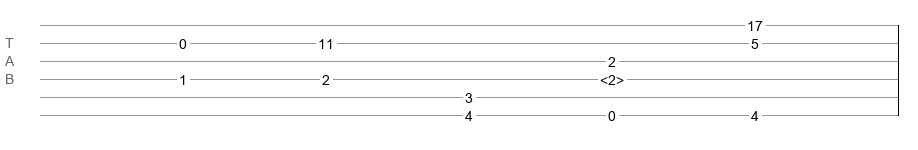0: (179, 36, 187, 46), (608, 108, 616, 118)
1: (179, 72, 187, 82)
11: (318, 36, 334, 46)
17: (747, 18, 763, 28)
2: (322, 72, 330, 82), (608, 54, 616, 64)
3: (465, 90, 473, 100)
4: (465, 108, 473, 118), (751, 108, 759, 118)
5: (751, 36, 759, 46)
harmonic: (600, 72, 624, 82)
